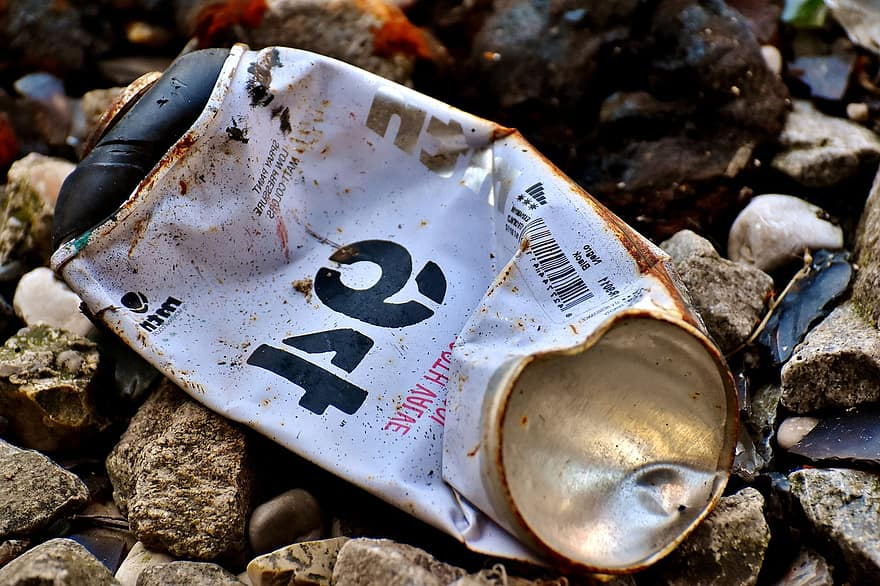can: (28, 19, 758, 578)
